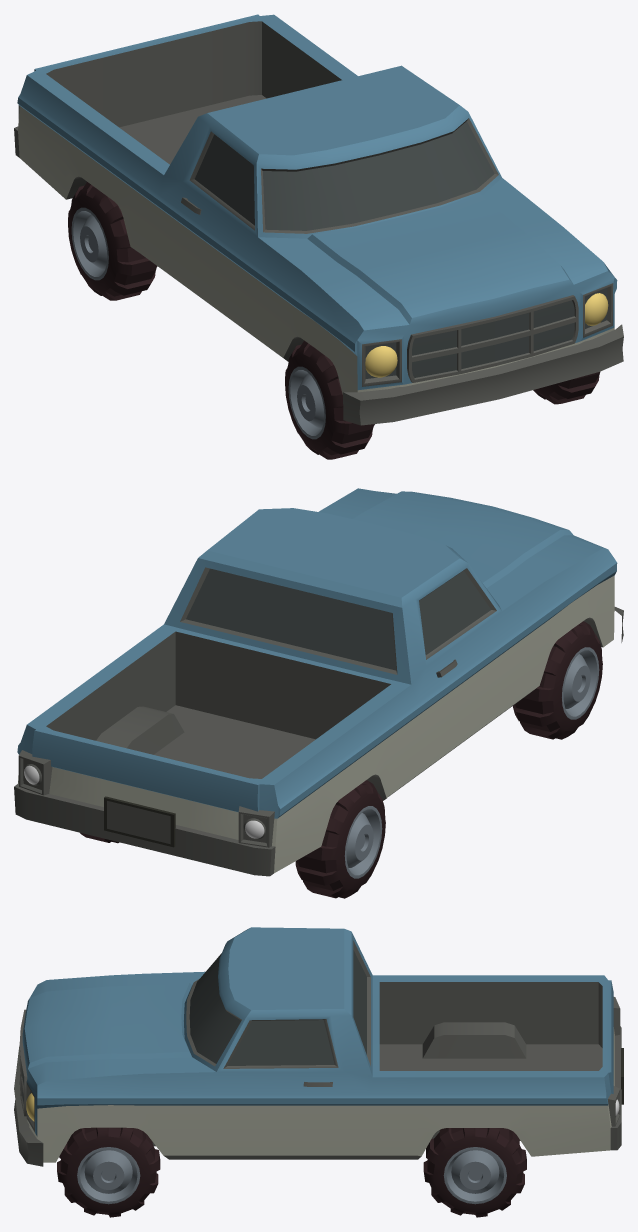
File: pickup.glb
The picture shows the model from 3 angles, top to bottom: view 1: azimuth 30°, elevation 25°; view 2: azimuth 150°, elevation 25°; view 3: azimuth 270°, elevation 25°; orthographic projection. The views are drawn at different scales.
Visible parts, largest first — view 1: BackWheels, Pickup; view 2: BackWheels; view 3: BackWheels.
Part boxes in pixels (<box>): BackWheels: <box>14,14,623,459</box>; Pickup: <box>365,293,608,377</box>; BackWheels: <box>14,488,623,898</box>; BackWheels: <box>14,927,623,1217</box>.
Size of the model in its own units: 2.31 by 1.85 by 5.18.
3 materials, 1 textured.
